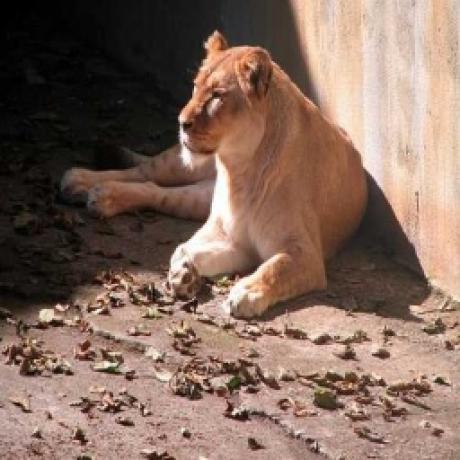Lion: (58, 30, 370, 321)
